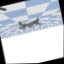drone: (18, 17, 41, 30)
